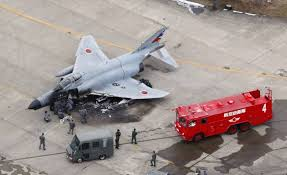fighter: (25, 23, 179, 119)
